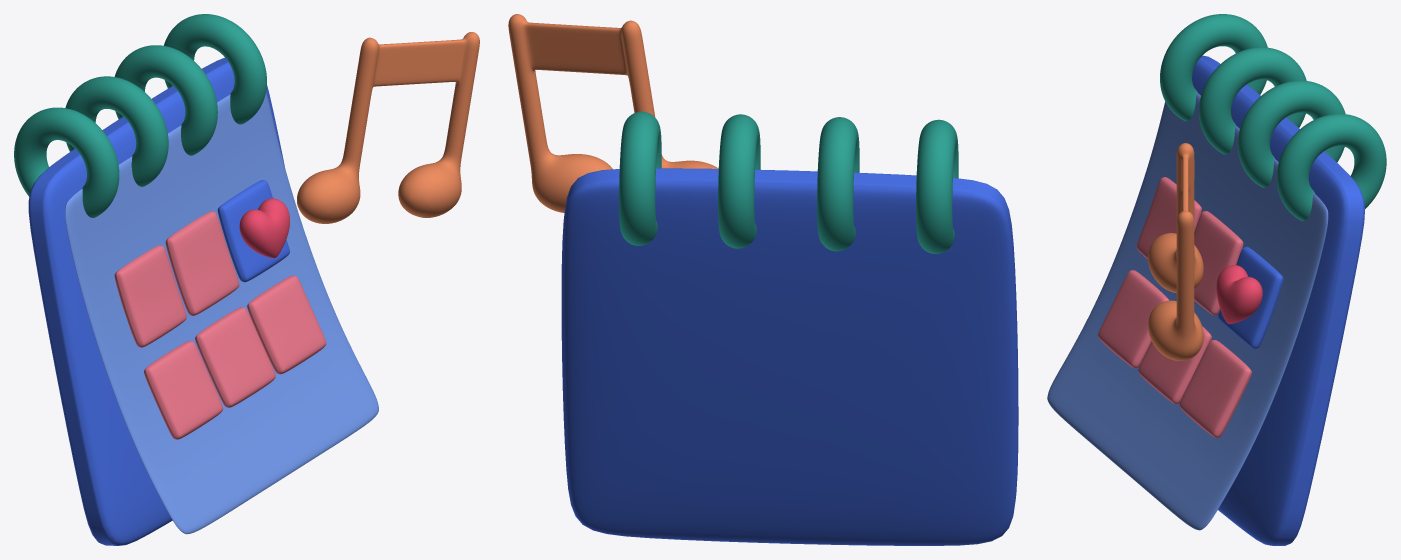
File: concert-date-3d-animated-icon-125827348662.glb
The picture shows the model from 3 angles, left to right: view 1: azimuth 30°, elevation 25°; view 2: azimuth 150°, elevation 25°; view 3: azimuth 270°, elevation 25°; orthographic projection. The views are drawn at different scales.
Parts seen in each view (by area): view 1: paper, cover, ring, note music, box.004, box.005, box, box.001, box.002, box.003, heart; view 2: cover, ring, note music; view 3: paper, cover, ring, note music, box, box.001, box.005, box.003, box.004, heart, box.002.
Part boxes in pixels (x1,y1,x2,y2): paper: [65, 93, 378, 534]; cover: [28, 57, 284, 545]; ring: [14, 14, 266, 217]; note music: [297, 32, 479, 223]; box.004: [195, 307, 275, 407]; box.005: [165, 211, 239, 315]; box: [247, 275, 326, 374]; box.001: [144, 341, 223, 439]; box.002: [114, 245, 186, 347]; box.003: [217, 180, 289, 282]; heart: [239, 198, 289, 258]; cover: [561, 168, 1018, 545]; ring: [619, 111, 958, 253]; note music: [508, 14, 718, 212]; paper: [1047, 92, 1328, 530]; cover: [1192, 55, 1364, 545]; ring: [1160, 14, 1386, 221]; note music: [1148, 143, 1203, 360]; box: [1179, 340, 1251, 437]; box.001: [1098, 270, 1169, 368]; box.005: [1194, 211, 1243, 315]; box.003: [1218, 246, 1283, 348]; box.004: [1138, 326, 1211, 403]; heart: [1216, 265, 1262, 323]; box.002: [1136, 177, 1201, 259].
Size of the model in its own units: 3.09 by 2.79 by 2.05.
